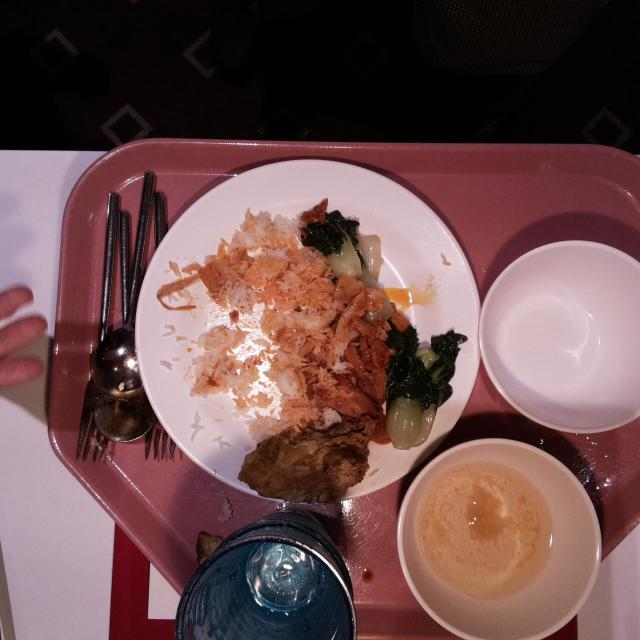Meat: (234, 432, 368, 502), (317, 369, 383, 423), (347, 339, 389, 403)
Rice: (197, 216, 333, 432)
Vegetable: (388, 331, 457, 411), (300, 203, 356, 256)
